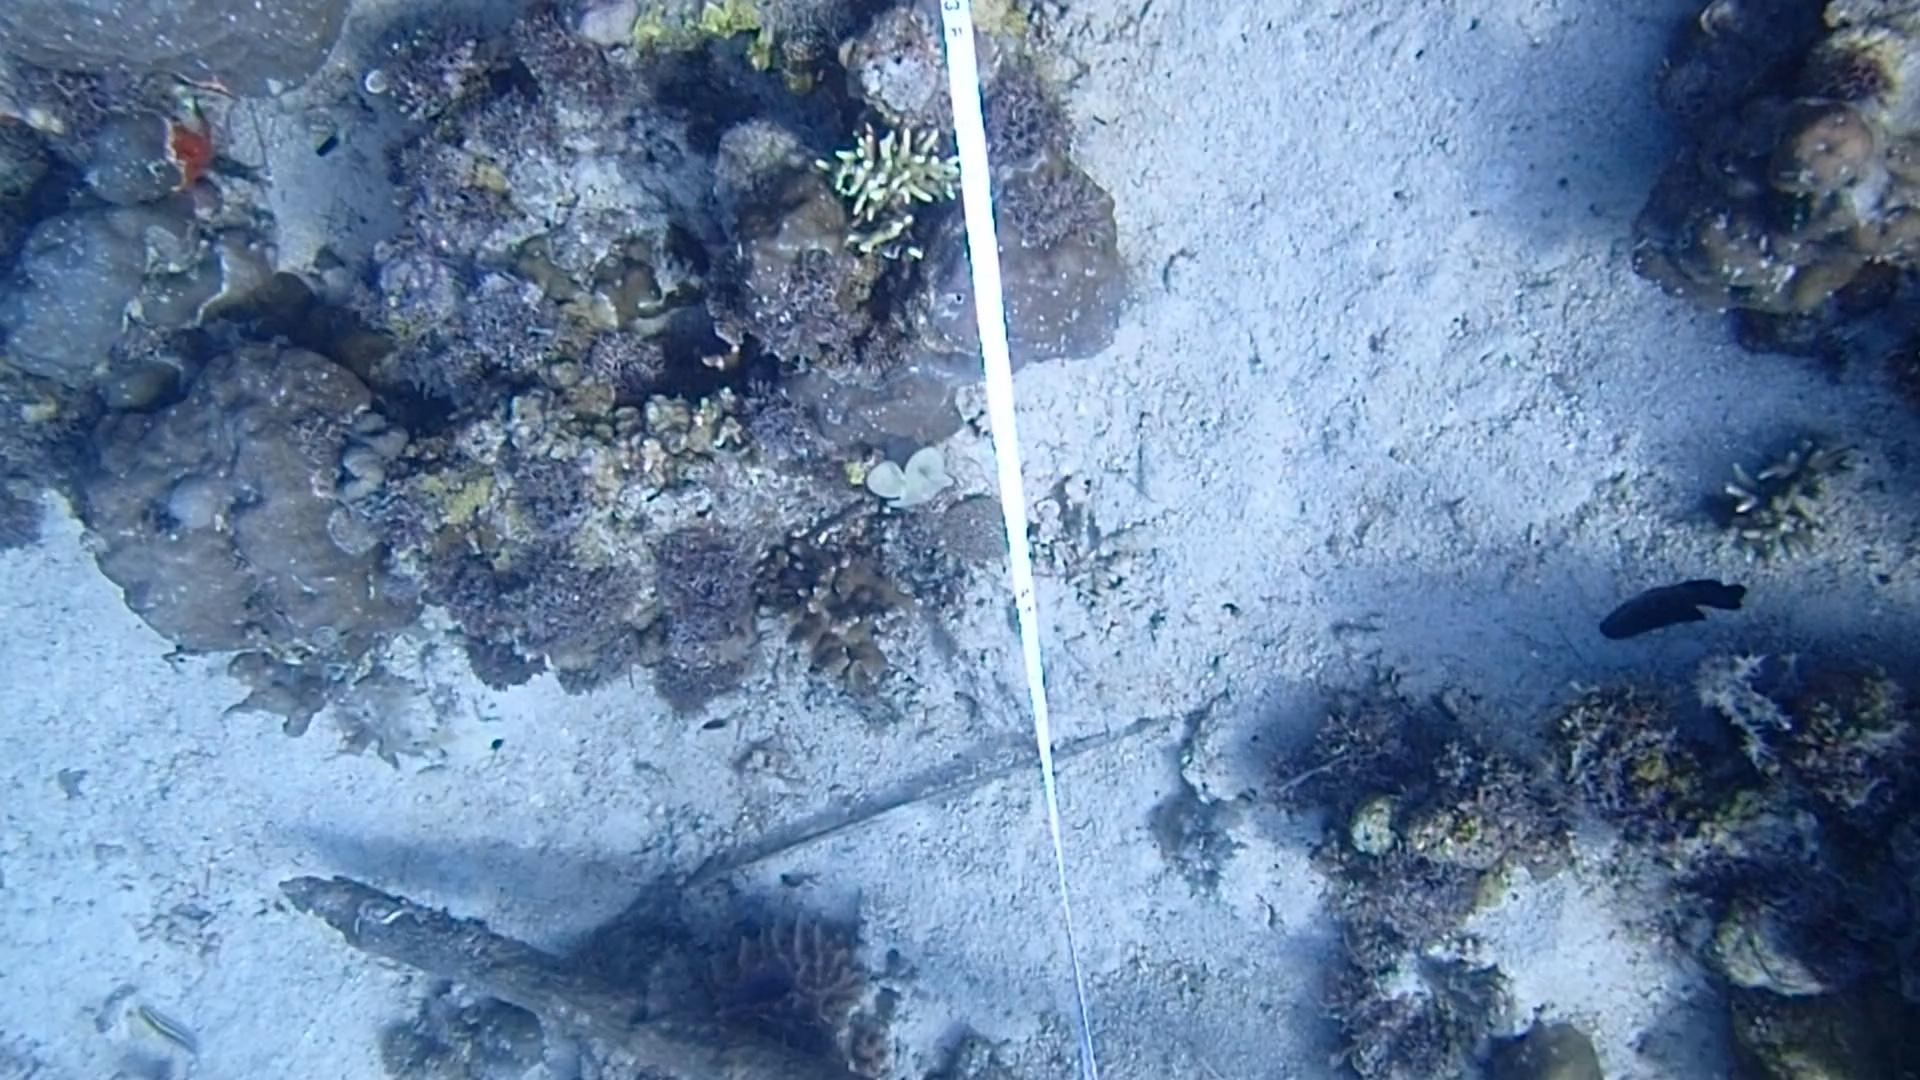Dark Fish: (1594, 562, 1750, 658)
Striped Fish: (129, 994, 203, 1067)
